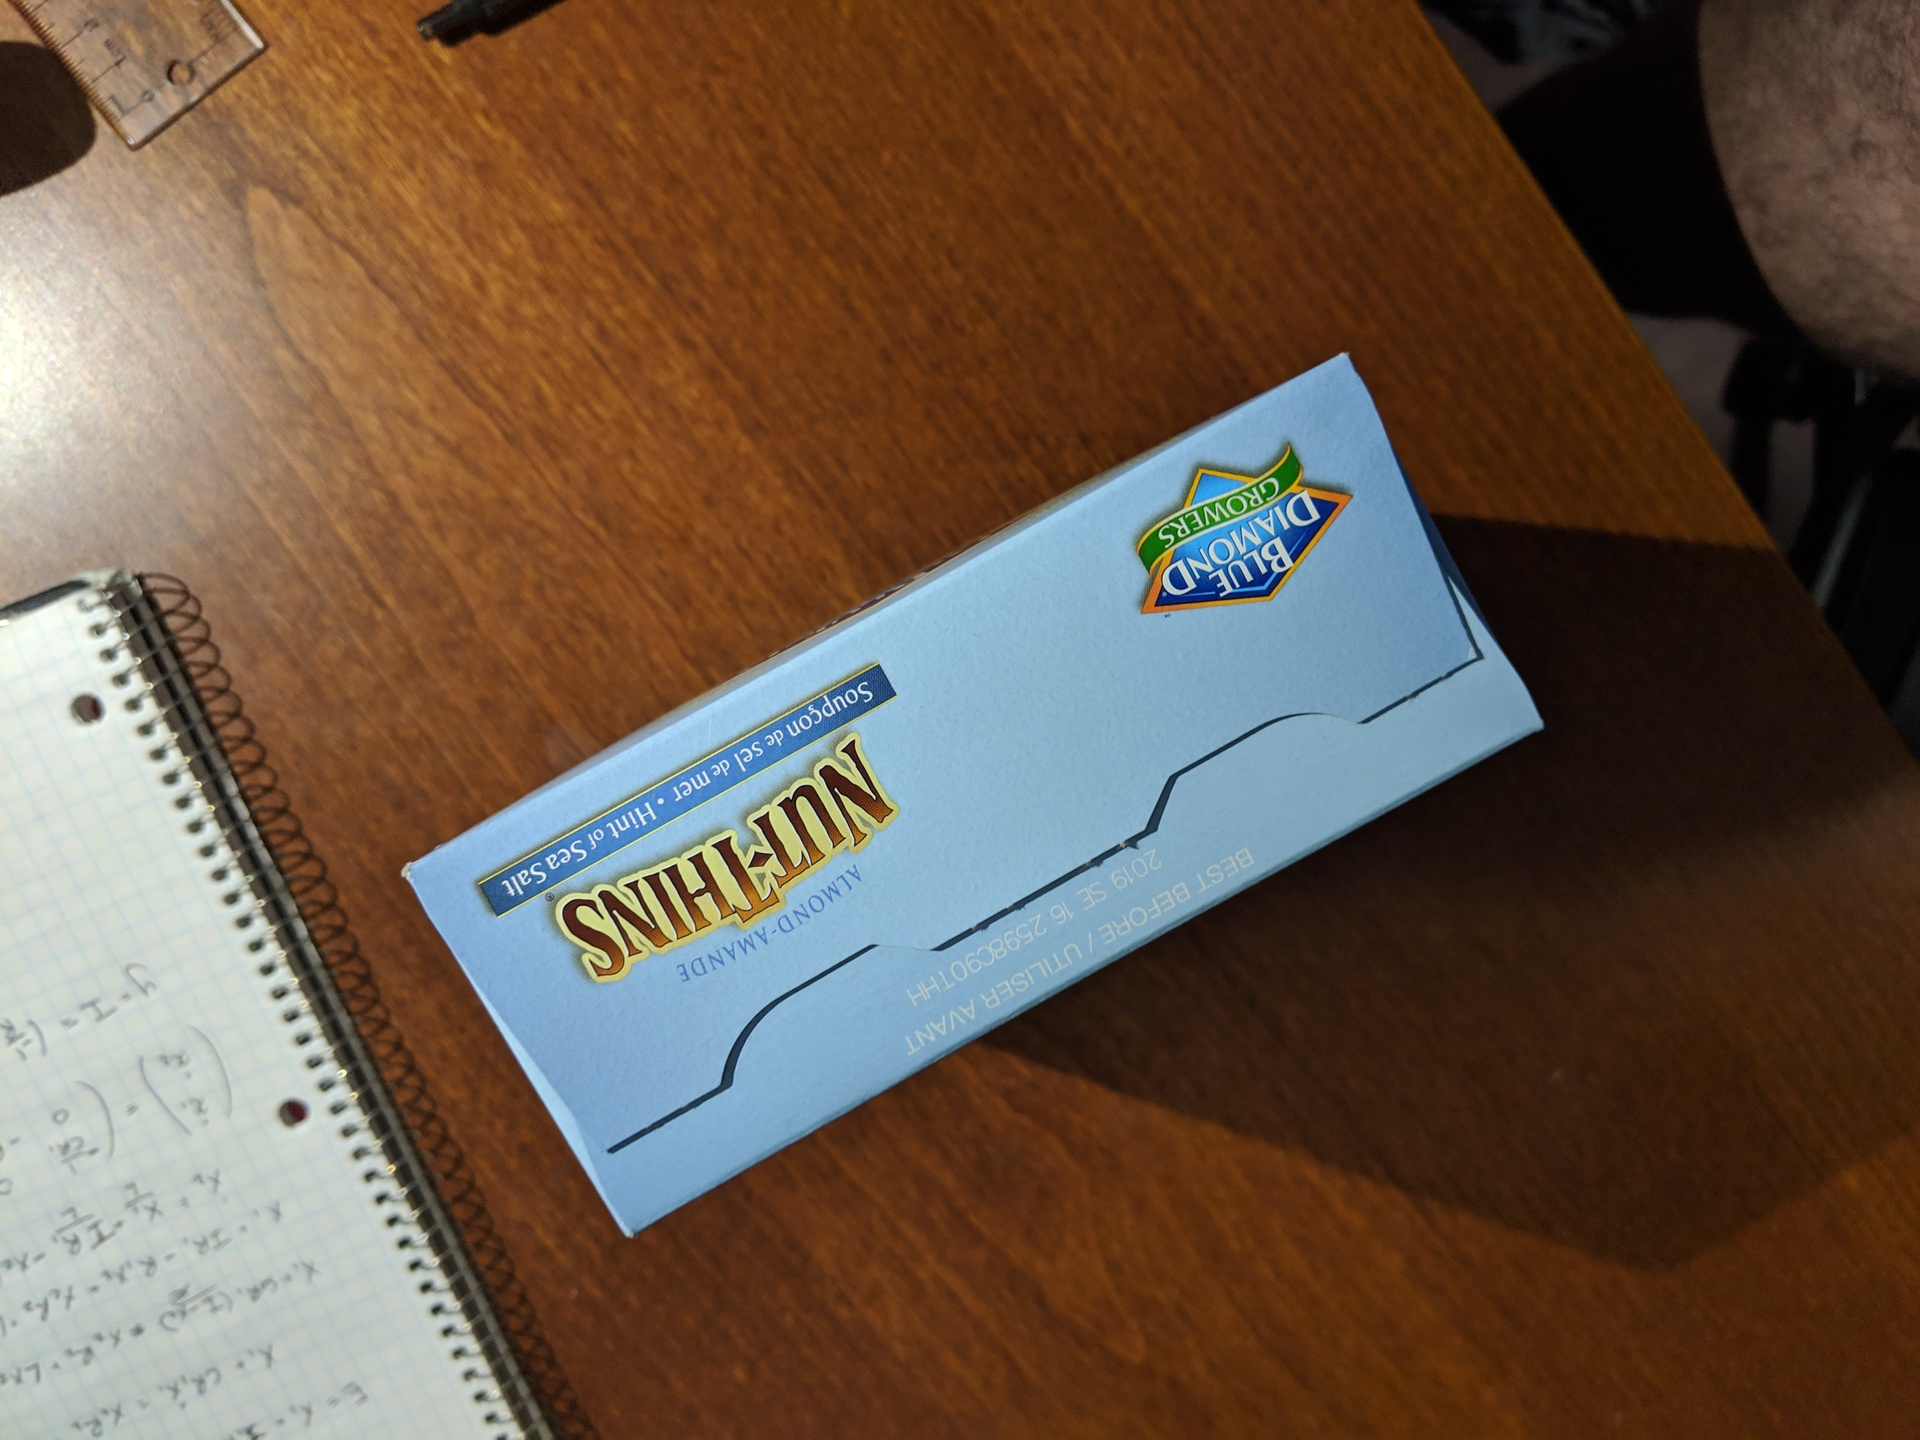blue_diamond_nut_thins_almond_seasalt: (556, 461, 1406, 1141)
